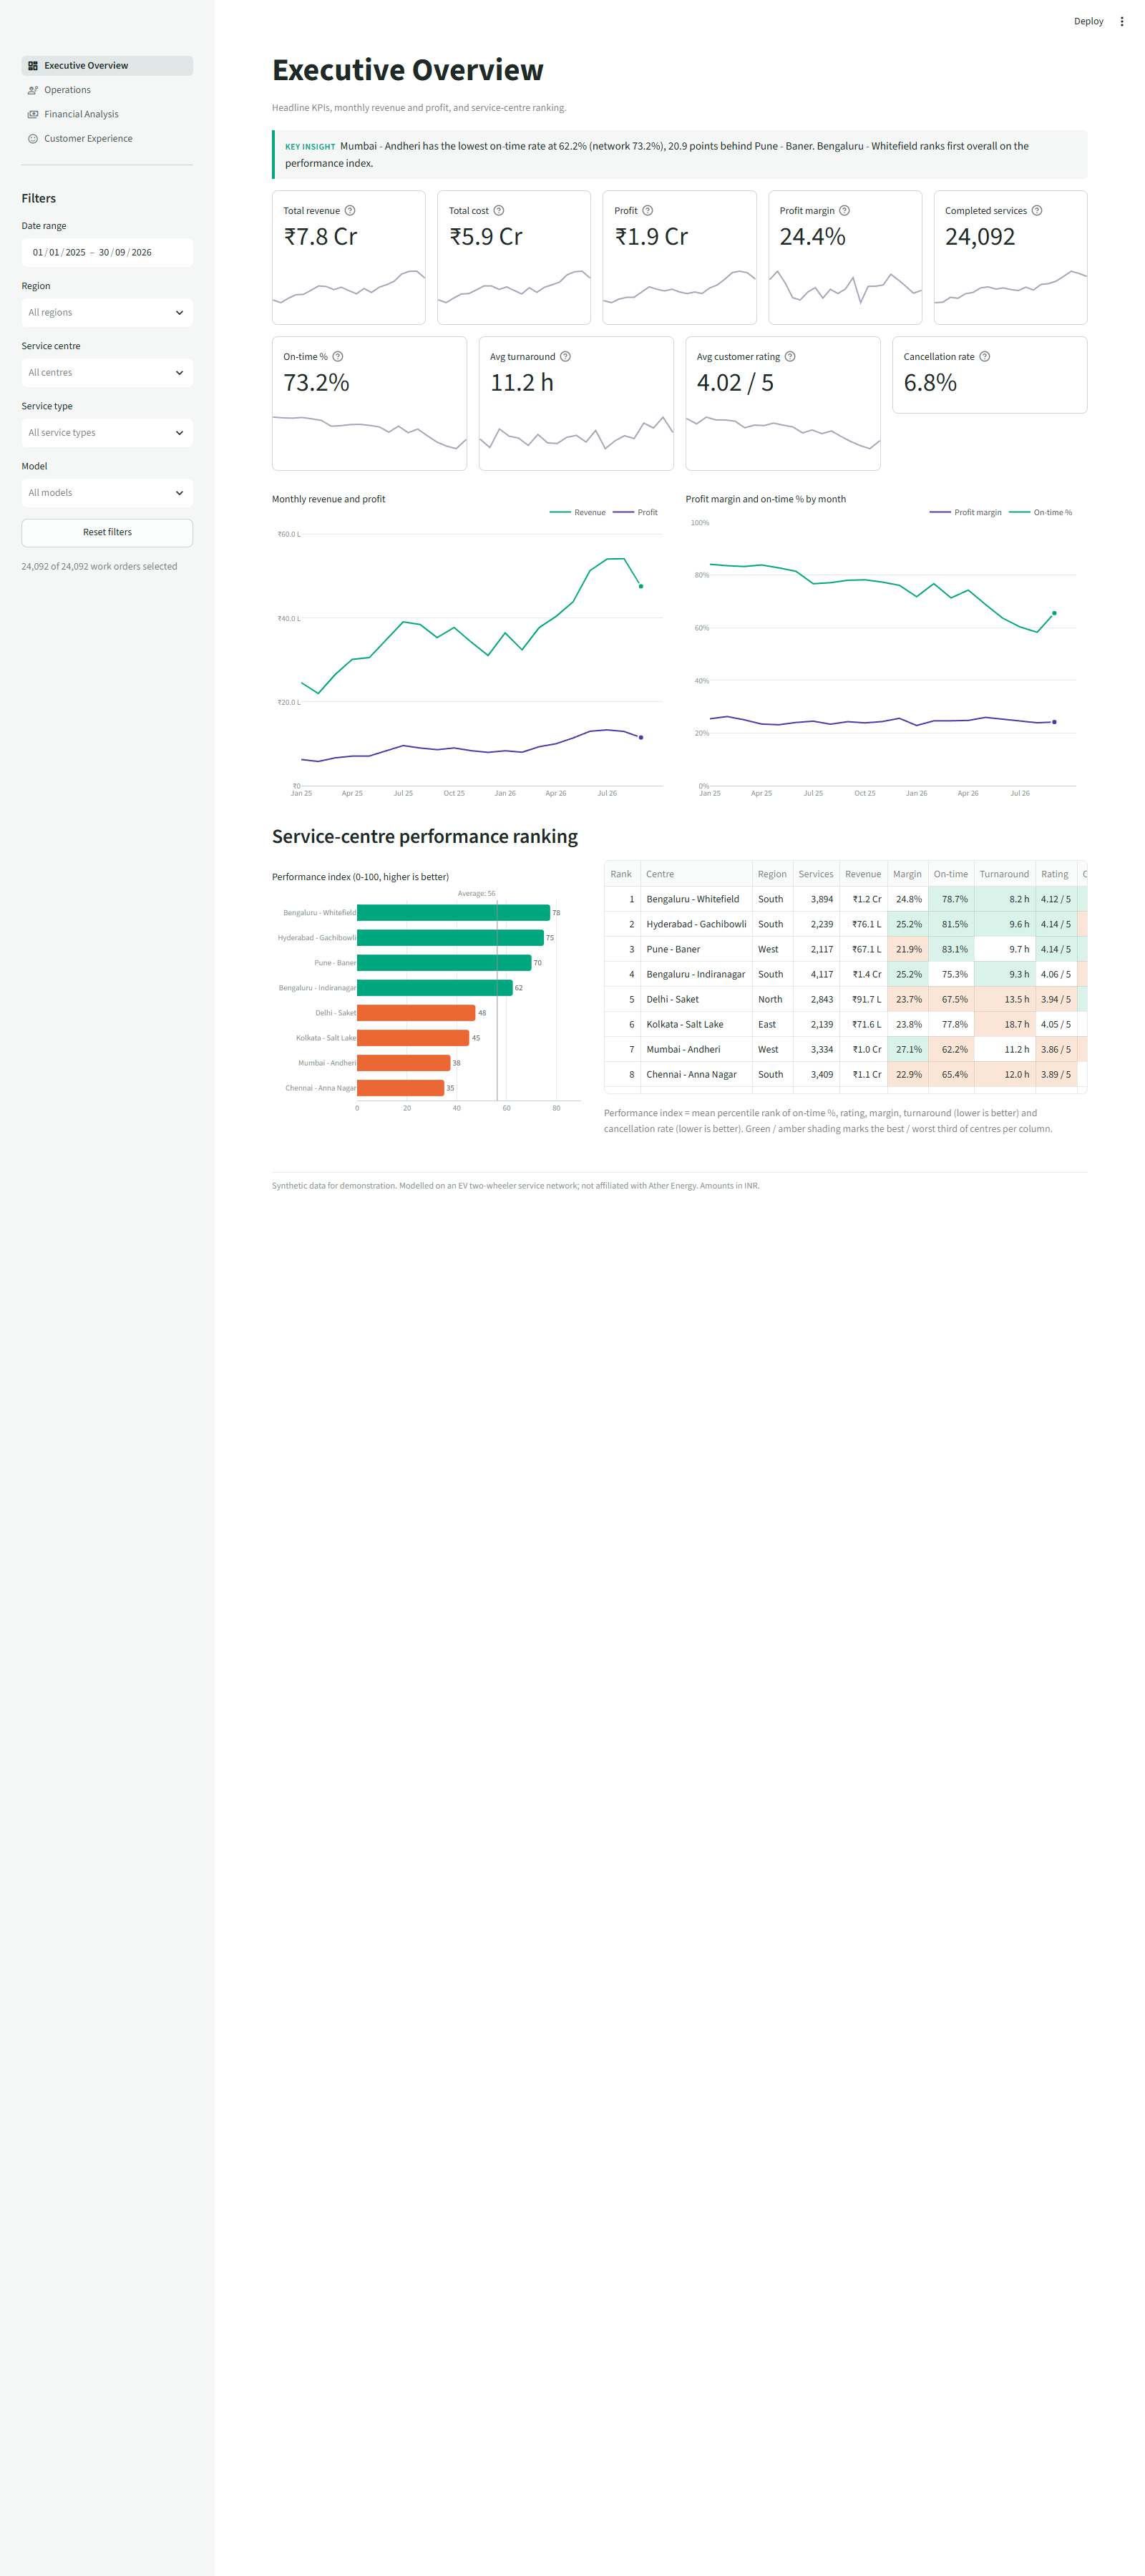

This screenshot's page, from the dashboard's own definition file:
{"tool":"powerbi","page":{"name":"Executive Overview","canvas":[1280,720],"ordinal":0},"visuals":[{"type":"textbox","box":[216,8,700,40],"z":0},{"type":"card","fields":{"Values":["_Measures.Selection Label"]},"box":[860,12,396,34],"z":1000},{"type":"card","fields":{"Values":["_Measures.Key Insight - Executive"]},"box":[216,52,1040,52],"z":2000},{"type":"textbox","box":[24,14,180,30],"z":3000},{"type":"slicer","fields":{"Values":["DimDate.date"]},"box":[24,52,176,90],"z":4000},{"type":"slicer","fields":{"Values":["DimCentre.region"]},"box":[24,150,176,60],"z":5000},{"type":"slicer","fields":{"Values":["DimCentre.center_name"]},"box":[24,218,176,60],"z":6000},{"type":"slicer","fields":{"Values":["DimServiceType.service_type"]},"box":[24,286,176,60],"z":7000},{"type":"slicer","fields":{"Values":["DimModel.model"]},"box":[24,354,176,60],"z":8000},{"type":"textbox","box":[24,690,1232,28],"z":9000},{"type":"card","fields":{"Values":["_Measures.INR Short Revenue"]},"box":[216,112,201,72],"z":10000},{"type":"card","fields":{"Values":["_Measures.INR Short Cost"]},"box":[425,112,201,72],"z":11000},{"type":"card","fields":{"Values":["_Measures.INR Short Profit"]},"box":[634,112,201,72],"z":12000},{"type":"card","fields":{"Values":["_Measures.Profit Margin %"]},"box":[843,112,201,72],"z":13000},{"type":"card","fields":{"Values":["_Measures.Completed Services"]},"box":[1052,112,201,72],"z":14000},{"type":"card","fields":{"Values":["_Measures.On-Time %"]},"box":[216,190,254,72],"z":15000},{"type":"card","fields":{"Values":["_Measures.Avg Turnaround Hours"]},"box":[478,190,254,72],"z":16000},{"type":"card","fields":{"Values":["_Measures.Avg Rating"]},"box":[740,190,254,72],"z":17000},{"type":"card","fields":{"Values":["_Measures.Cancellation Rate"]},"box":[1002,190,254,72],"z":18000},{"type":"lineChart","title":"Monthly revenue and profit (INR)","fields":{"Category":["DimDate.Month Label"],"Y":["_Measures.Total Revenue","_Measures.Profit"]},"box":[216,270,516,210],"z":19000},{"type":"lineChart","title":"Profit margin and on-time % by month","fields":{"Category":["DimDate.Month Label"],"Y":["_Measures.Profit Margin %","_Measures.On-Time %"]},"box":[740,270,516,210],"z":20000},{"type":"clusteredBarChart","title":"Centre performance index (0-100)","fields":{"Category":["DimCentre.center_name"],"Y":["_Measures.Centre Performance Index"]},"box":[216,488,380,206],"z":21000},{"type":"tableEx","title":"Service-centre ranking","fields":{"Values":["_Measures.Centre Rank","DimCentre.center_name","_Measures.Completed Services","_Measures.Total Revenue","_Measures.Profit Margin %","_Measures.On-Time %","_Measures.Avg Turnaround Hours","_Measures.Avg Rating","_Measures.Cancellation Rate"]},"box":[604,488,652,206],"z":22000}]}

Visuals, with their boxes on the page's 1280x720 design canvas (x1, y1, x2, y2). These are canvas units, not pixel positions in the 1145x2576 screenshot, which may show the page scaled, cropped or inside an application window:
textbox: BBox(216, 8, 916, 48)
card - _Measures.Selection Label: BBox(860, 12, 1256, 46)
card - _Measures.Key Insight - Executive: BBox(216, 52, 1256, 104)
textbox: BBox(24, 14, 204, 44)
slicer - DimDate.date: BBox(24, 52, 200, 142)
slicer - DimCentre.region: BBox(24, 150, 200, 210)
slicer - DimCentre.center_name: BBox(24, 218, 200, 278)
slicer - DimServiceType.service_type: BBox(24, 286, 200, 346)
slicer - DimModel.model: BBox(24, 354, 200, 414)
textbox: BBox(24, 690, 1256, 718)
card - _Measures.INR Short Revenue: BBox(216, 112, 417, 184)
card - _Measures.INR Short Cost: BBox(425, 112, 626, 184)
card - _Measures.INR Short Profit: BBox(634, 112, 835, 184)
card - _Measures.Profit Margin %: BBox(843, 112, 1044, 184)
card - _Measures.Completed Services: BBox(1052, 112, 1253, 184)
card - _Measures.On-Time %: BBox(216, 190, 470, 262)
card - _Measures.Avg Turnaround Hours: BBox(478, 190, 732, 262)
card - _Measures.Avg Rating: BBox(740, 190, 994, 262)
card - _Measures.Cancellation Rate: BBox(1002, 190, 1256, 262)
"Monthly revenue and profit (INR)" lineChart: BBox(216, 270, 732, 480)
"Profit margin and on-time % by month" lineChart: BBox(740, 270, 1256, 480)
"Centre performance index (0-100)" clusteredBarChart: BBox(216, 488, 596, 694)
"Service-centre ranking" tableEx: BBox(604, 488, 1256, 694)
